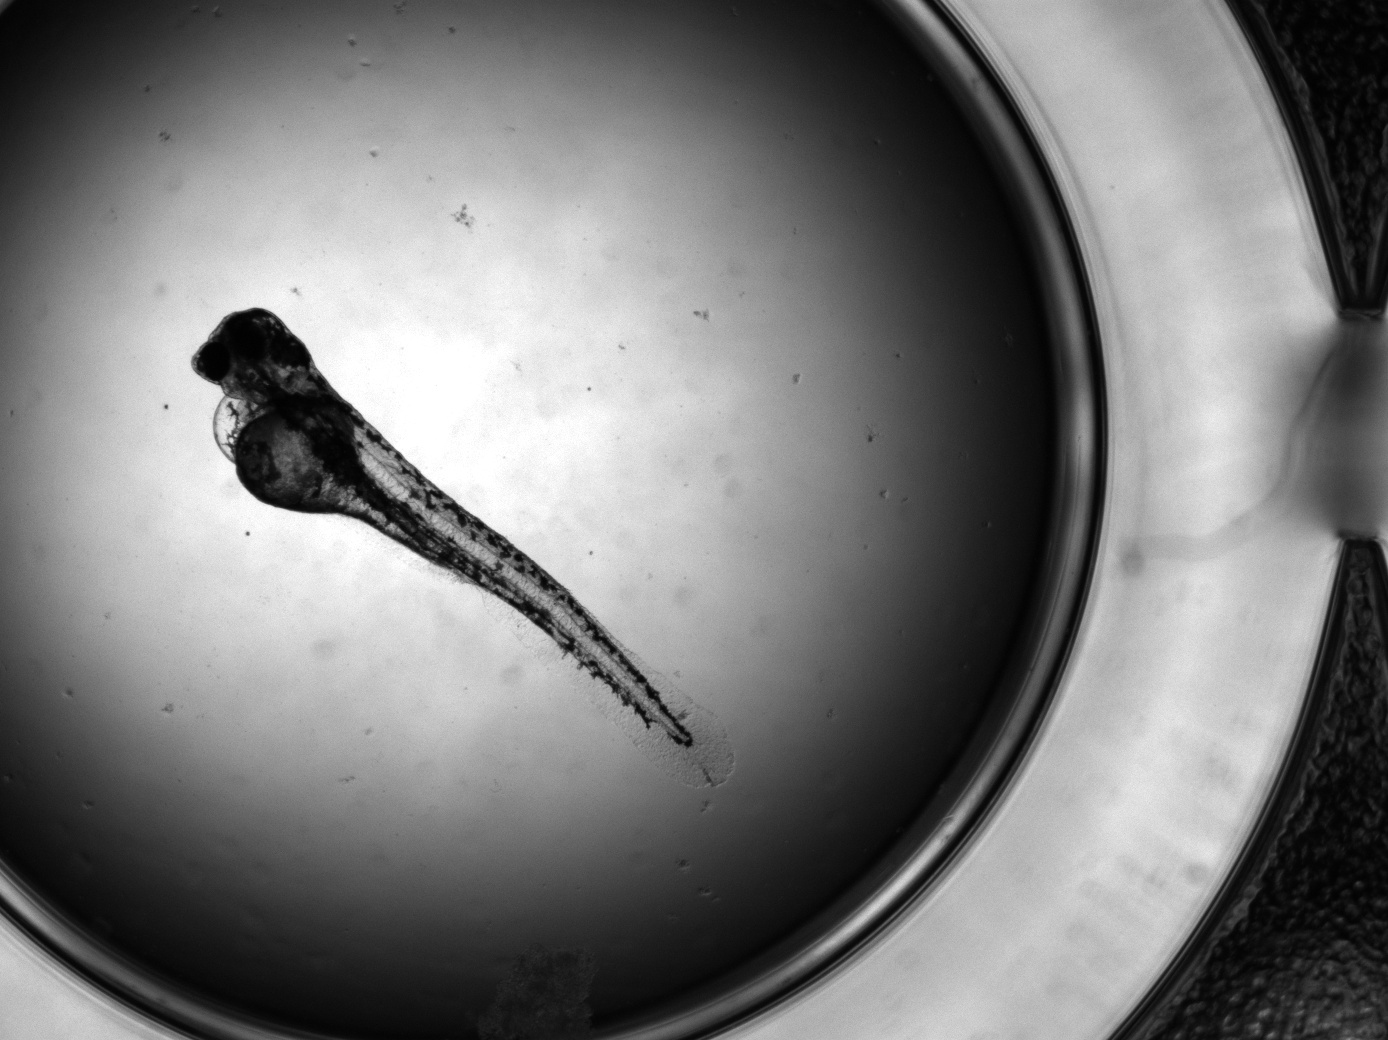embryo: (193, 307, 697, 752)
eye: (226, 322, 266, 362), (197, 343, 229, 380)
yolksac: (215, 390, 381, 521)
